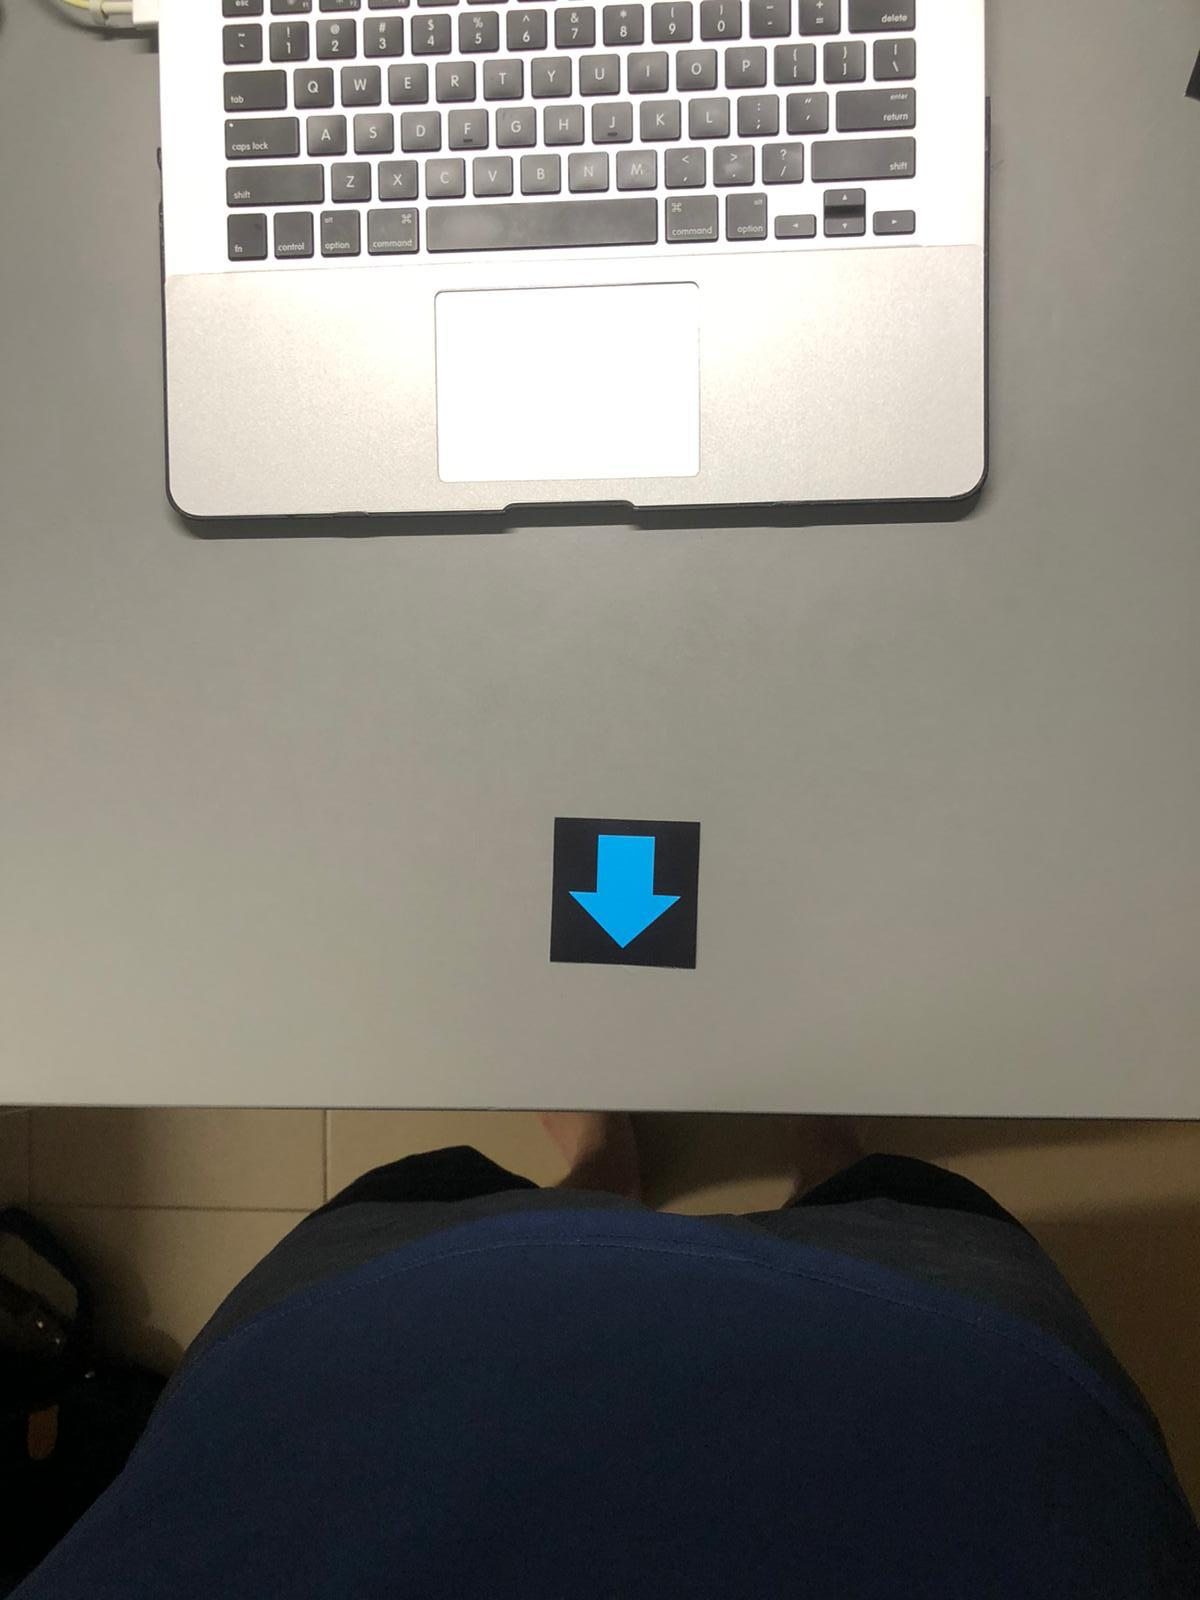Down Arrow: (558, 821, 705, 968)
